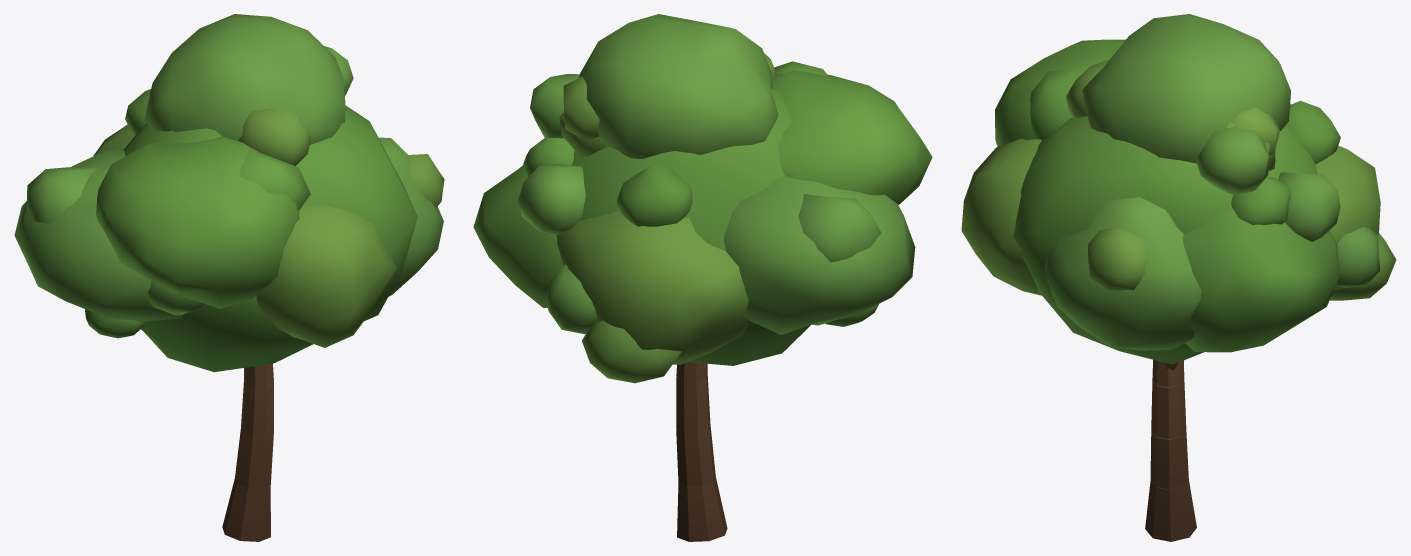
The model's file is oak-tall-0.glb.
3 renders of one model, left to right at view 1: azimuth 30°, elevation 25°; view 2: azimuth 150°, elevation 25°; view 3: azimuth 270°, elevation 25°, orthographic. The views are drawn at different scales.
Visible parts, largest first — view 1: leaf, bark; view 2: leaf, bark; view 3: leaf, bark.
Boxes of the visible parts, x1,y1,x2,y2 form: leaf: (14,14,444,372); bark: (222,363,273,541); leaf: (473,14,932,383); bark: (676,362,727,541); leaf: (961,14,1396,364); bark: (1145,359,1196,541).
Bounding box in the file's own units: 5.1 × 6.53 × 5.03.
